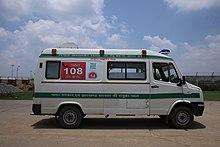ER: (32, 46, 206, 128)
